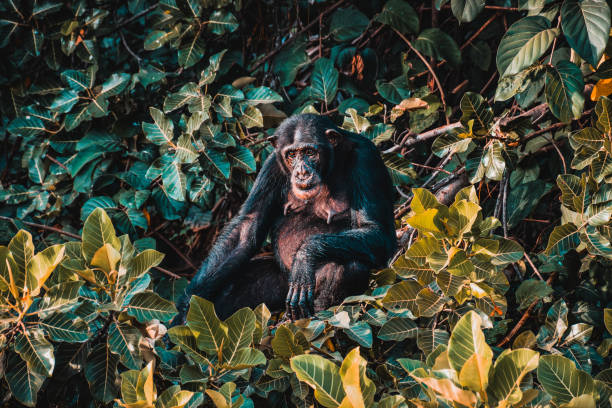chimpanzee: (257, 111, 348, 222)
